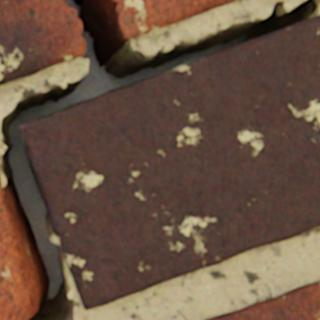brick: (19, 15, 319, 308), (204, 280, 319, 319), (0, 179, 27, 319)
broken_brick: (0, 0, 85, 85), (110, 0, 235, 39)
crack: (0, 0, 319, 319)
